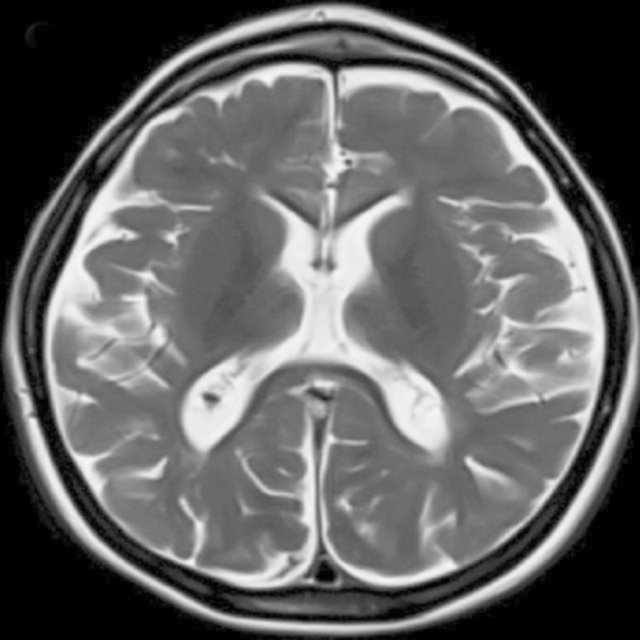glioma tumor: (144, 86, 516, 552)
